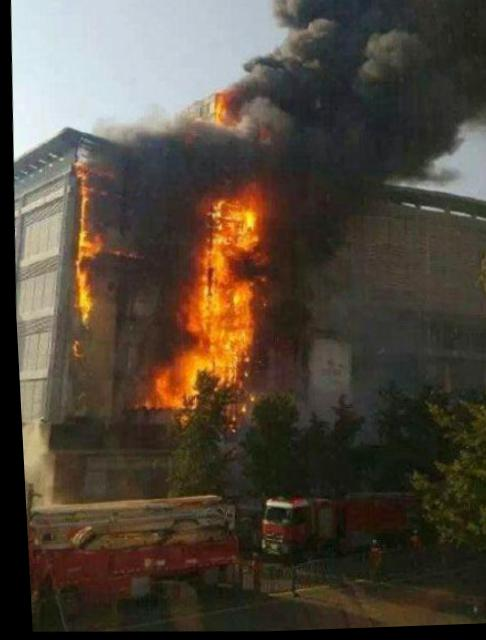fire: (183, 282, 243, 334), (143, 351, 194, 412), (191, 327, 244, 382), (205, 199, 252, 246), (68, 258, 92, 332), (192, 238, 222, 284), (72, 170, 86, 256), (207, 93, 227, 125), (74, 234, 98, 254)
